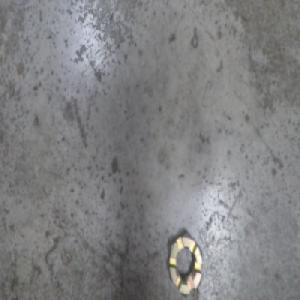Nut: (168, 227, 203, 296)
